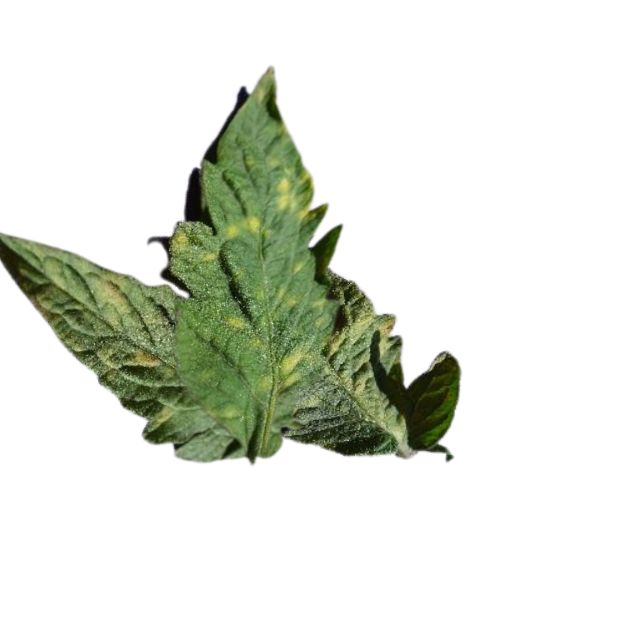Leaf_Mold: (4, 235, 175, 432), (325, 308, 396, 399), (170, 214, 262, 271), (265, 162, 322, 223), (252, 342, 302, 395), (222, 311, 245, 331)
